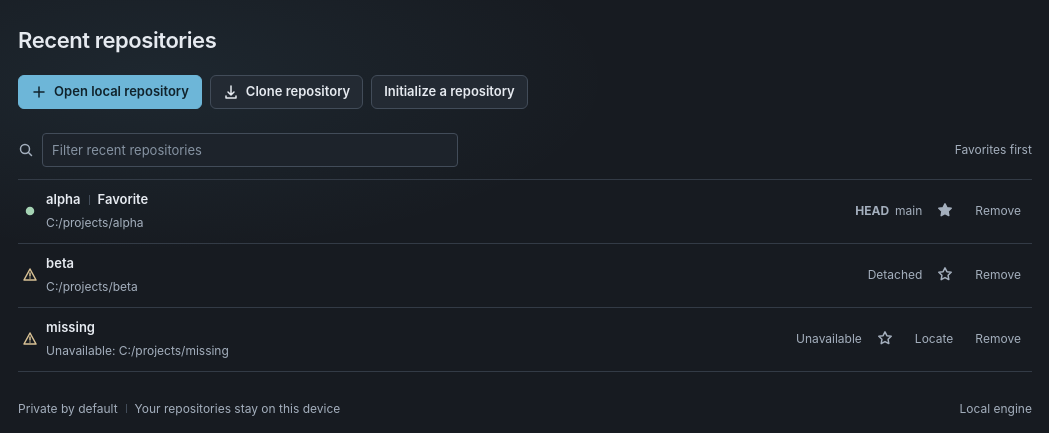
it: filters recents by name, path or branch and moves from search into the matching rows
Step 1. Type "beta" into the search field labelled "Filter recent repositories" → {"x": 250, "y": 150}, box 42,133 -> 458,167
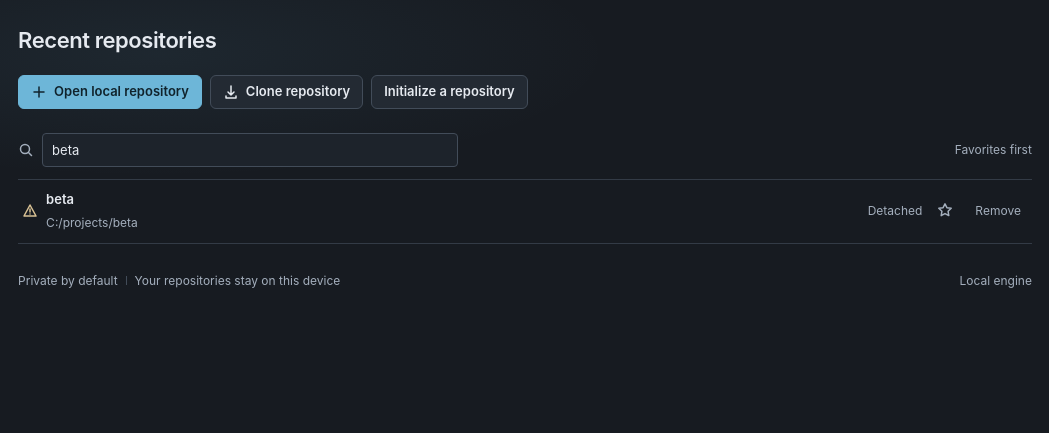
Expected: the number of elements with class "repositoryRow" is 1, 18,180 -> 1032,244
Step 2. Press ArrowDown in the search field named "Filter recent repositories", box 42,133 -> 458,167
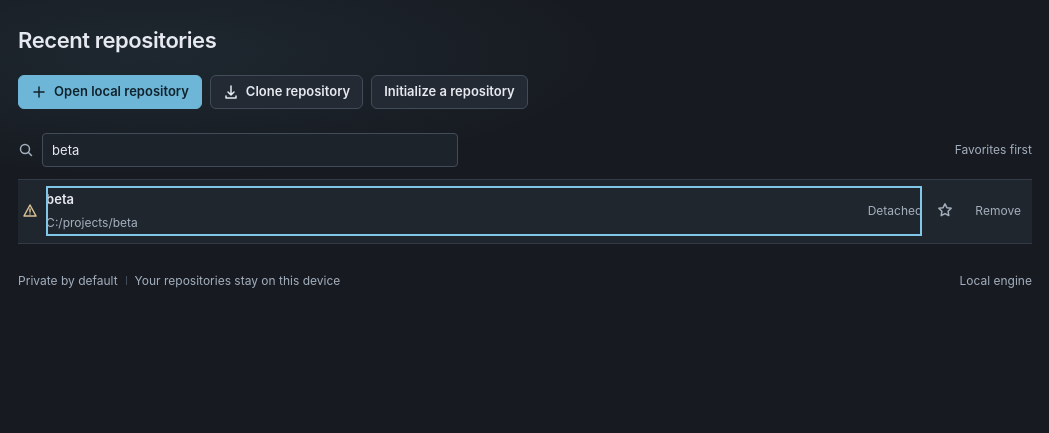
Step 3. Replace the text in the search field named "Filter recent repositories" with "no-match" → {"x": 250, "y": 150}, box 42,133 -> 458,167
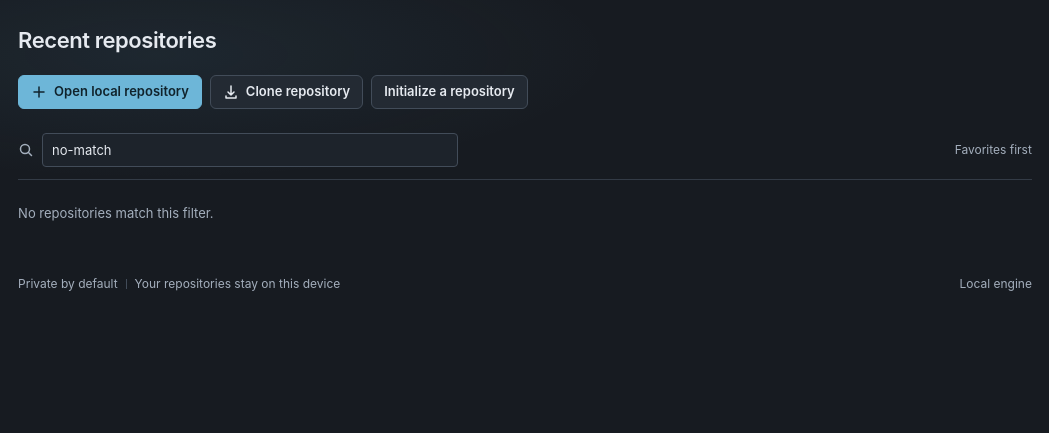
Expected: the message reads "No repositories match this filter.", 18,205 -> 214,221
Step 4. Press Escape in the search field named "Filter recent repositories", box 42,133 -> 458,167
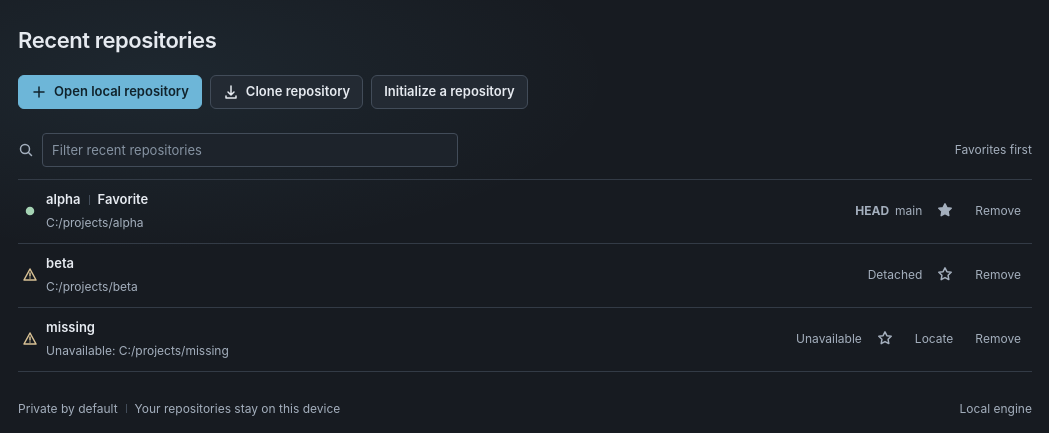
Expected: the number of elements with class "repositoryRow" is 3, 18,180 -> 1032,244; 18,244 -> 1032,308; 18,308 -> 1032,372
